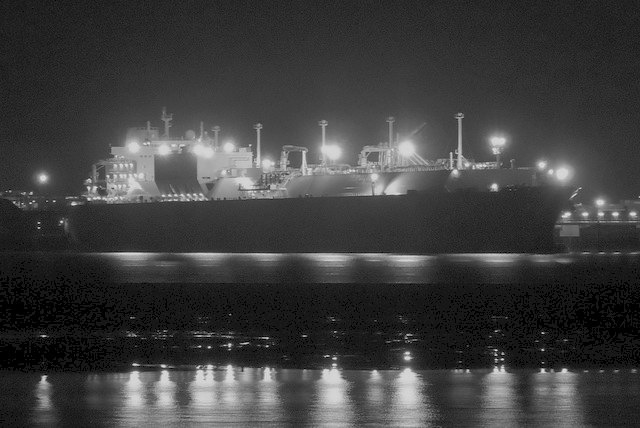LNG_ship: (65, 117, 576, 255)
